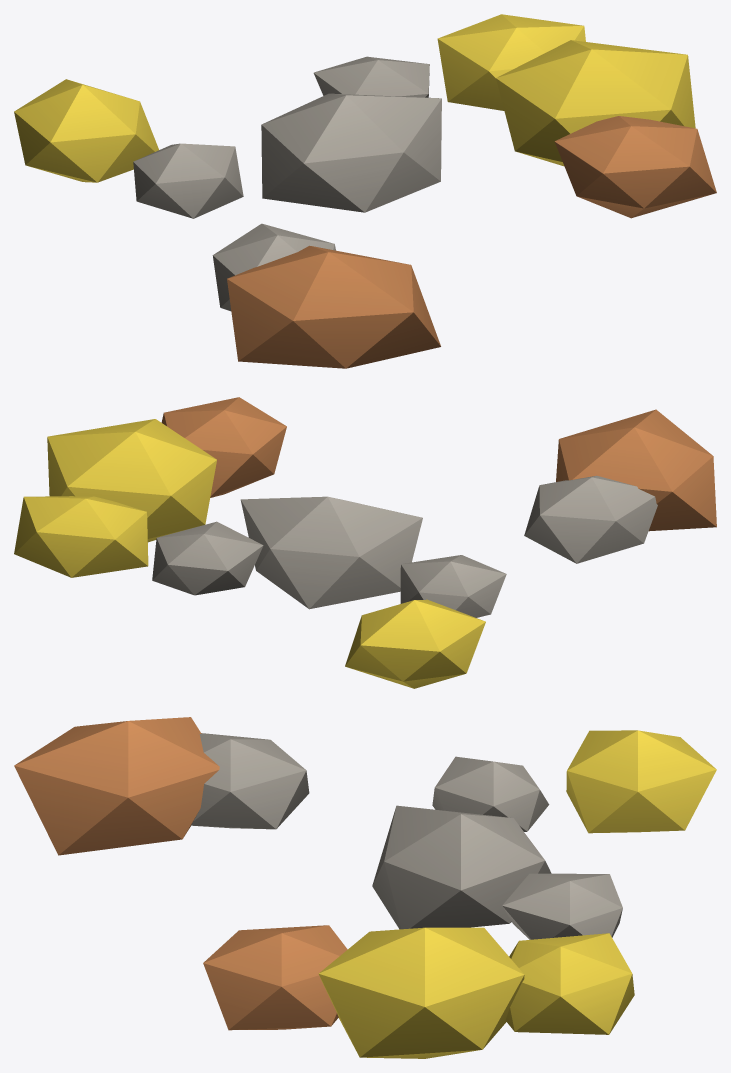
Rendered from deposit_copper.glb.
3 views of the same model, one above another, from view 1: azimuth 30°, elevation 25°; view 2: azimuth 150°, elevation 25°; view 3: azimuth 270°, elevation 25° (orthographic). The views are drawn at different scales.
Visible parts, largest first — view 1: deposit_copper; view 2: deposit_copper; view 3: deposit_copper.
Boxes of the visible parts, bbox=[...] form: deposit_copper: bbox=[14, 14, 716, 368]; deposit_copper: bbox=[14, 397, 716, 688]; deposit_copper: bbox=[14, 717, 716, 1058].
Bounding box in the file's own units: 1.69 × 0.3431 × 1.66.
Materials: 1 (1 with a texture image).
